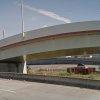Bridge: (4, 25, 98, 66)
